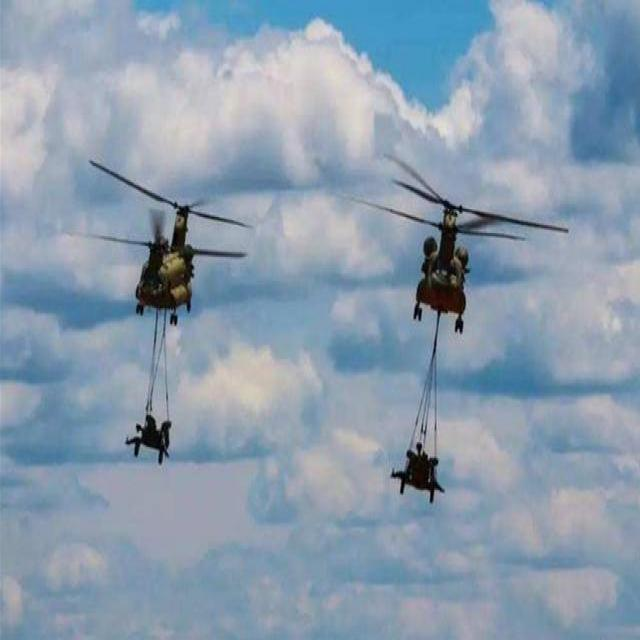MIL_HELO: (339, 131, 578, 341), (61, 143, 274, 327)
